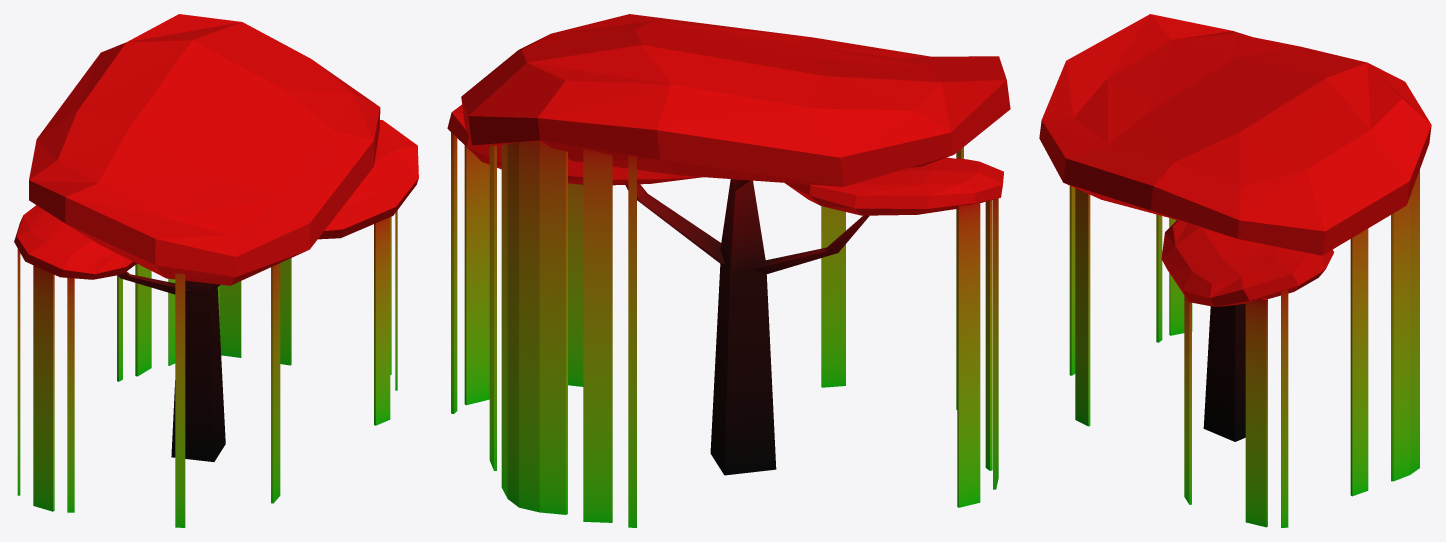
File: saule_vertexcolor.FBX
3 renders of one model, left to right at view 1: azimuth 30°, elevation 25°; view 2: azimuth 150°, elevation 25°; view 3: azimuth 270°, elevation 25°, orthographic. The views are drawn at different scales.
Visible parts, largest first — view 1: tronc009; view 2: tronc009; view 3: tronc009.
Boxes of the visible parts, box(x1,y1,x2,y2) form: tronc009: box(14, 14, 418, 527); tronc009: box(447, 14, 1010, 527); tronc009: box(1039, 14, 1431, 527).
Bounding box in the file's own units: 377 × 318 × 306.
